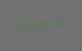four: (58, 18, 65, 28)
nine: (17, 22, 24, 32), (34, 20, 41, 30)
seven: (50, 19, 57, 29)
three: (42, 19, 49, 30)
zero: (25, 21, 32, 31)
